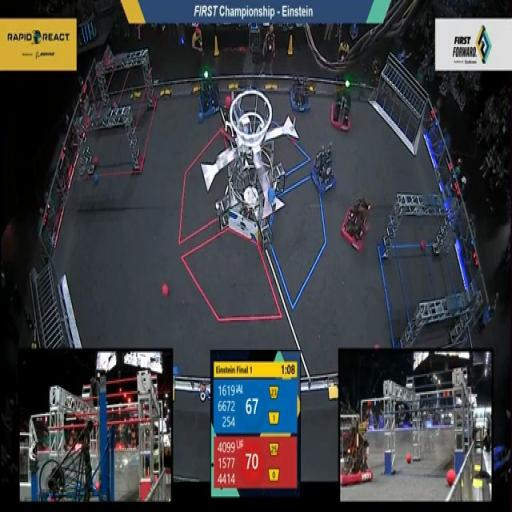robot: (340, 193, 372, 256), (309, 137, 338, 199), (331, 69, 355, 135), (195, 62, 222, 119), (286, 68, 313, 116)
